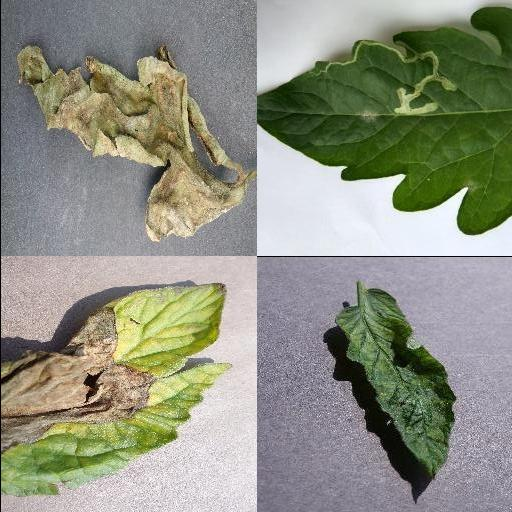Late Blight: (0, 282, 234, 498), (16, 47, 250, 243)
Leaf Miner: (256, 8, 512, 237)
Mosaic Virus: (333, 288, 457, 481)
